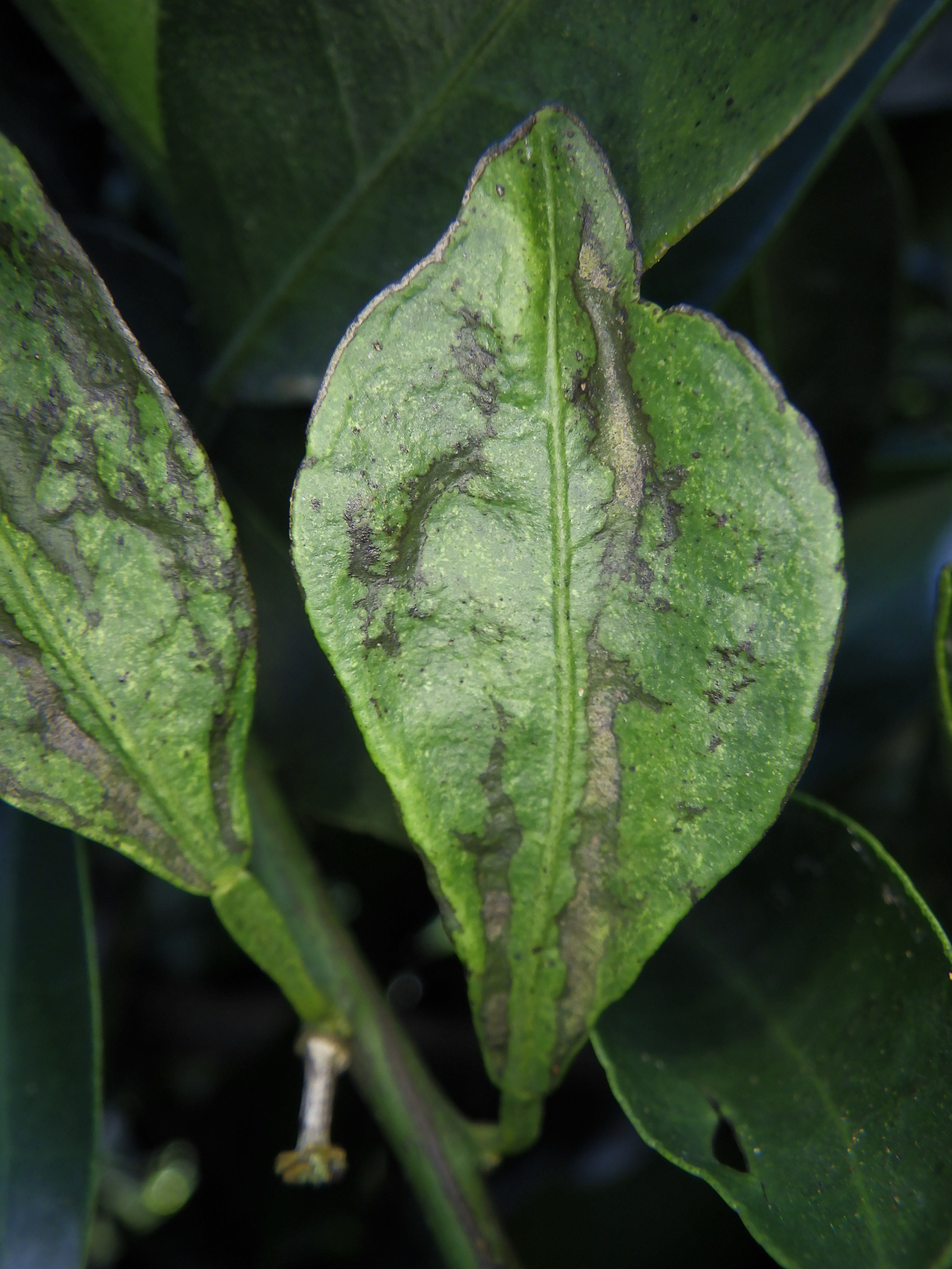Thrips_Damage: (0, 603, 196, 881), (544, 622, 661, 1081), (348, 307, 498, 617), (0, 252, 134, 595), (570, 202, 653, 538), (456, 703, 522, 1079)
